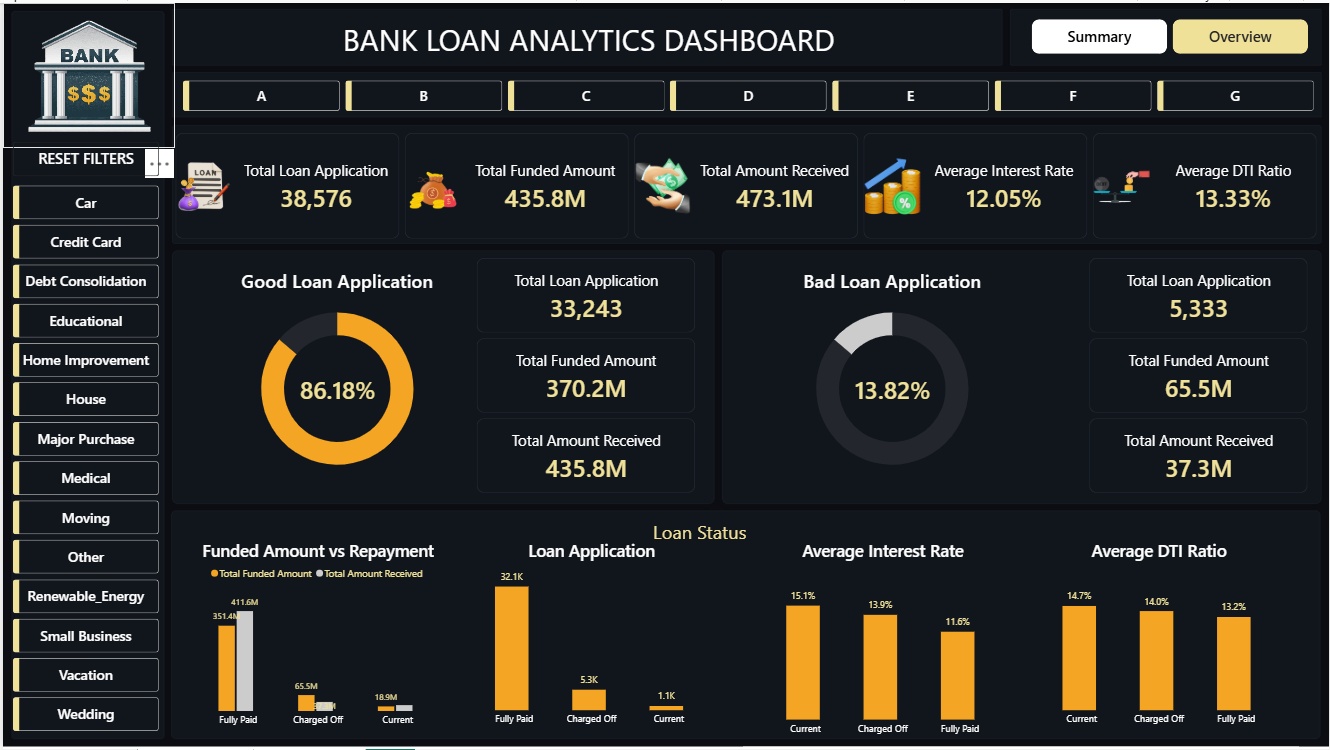

The page's visual inventory and layout, read from the dashboard file:
{"tool":"powerbi","page":{"name":"Summary","canvas":[1920,1080],"ordinal":0},"visuals":[{"type":"cardVisual","fields":{"Data":["financial_loan.Total Loan Application","financial_loan.Total Funded Amount","financial_loan.Total Amount Received","financial_loan.Average Interest Rate","financial_loan.Average DTI Rate"]},"box":[250,187.8,1653.3,153.3],"z":0},{"type":"donutChart","title":"Good Loan Application","fields":{"Category":["financial_loan.Good_vs_Bad_Loan"],"Y":["financial_loan.Total Loan Application"]},"box":[272.9,368.6,421.4,342.9],"z":1000},{"type":"donutChart","title":"Bad Loan Application","fields":{"Category":["financial_loan.Good_vs_Bad_Loan"],"Y":["financial_loan.Total Loan Application"]},"box":[1077.1,368.6,421.4,342.9],"z":2000},{"type":"cardVisual","fields":{"Data":["financial_loan.Good Loan %"]},"box":[394.3,514.3,180,88.6],"z":3000},{"type":"cardVisual","fields":{"Data":["financial_loan.Bad Loan %"]},"box":[1197.1,514.3,180,88.6],"z":4000},{"type":"cardVisual","fields":{"Data":["financial_loan.Total Loan Application","financial_loan.Total Funded Amount","financial_loan.Total Amount Received"],"Rows":["financial_loan.Good_vs_Bad_Loan"]},"box":[651.4,368.6,350,342.9],"z":5000},{"type":"cardVisual","fields":{"Data":["financial_loan.Total Loan Application","financial_loan.Total Funded Amount","financial_loan.Total Amount Received"],"Rows":["financial_loan.Good_vs_Bad_Loan"]},"box":[1538.6,368.6,350,342.9],"z":6000},{"type":"clusteredColumnChart","title":"Funded Amount vs Repayment","fields":{"Category":["financial_loan.LOAN_STATUS"],"Y":["financial_loan.Total Funded Amount","financial_loan.Total Amount Received"]},"box":[250,761.4,412.9,305.7],"z":7000},{"type":"clusteredColumnChart","title":"Loan Application","fields":{"Category":["financial_loan.LOAN_STATUS"],"Y":["financial_loan.Total Loan Application"]},"box":[651.2,761.2,401.2,305],"z":8000},{"type":"textbox","box":[941.2,747.5,222.5,112.5],"z":9000},{"type":"clusteredColumnChart","title":"Average Interest Rate","fields":{"Category":["financial_loan.LOAN_STATUS"],"Y":["financial_loan.Average Interest Rate"]},"box":[1072.9,761.4,401.4,318.6],"z":10000},{"type":"clusteredColumnChart","title":"Average DTI Ratio","fields":{"Category":["financial_loan.LOAN_STATUS"],"Y":["financial_loan.Average DTI Ratio"]},"box":[1473.8,761.2,401.2,305],"z":11000},{"type":"image","box":[0,0,250,210],"z":12000},{"type":"advancedSlicerVisual","fields":{"Values":["financial_loan.PURPOSE"]},"box":[14.3,264.3,211.4,802.9],"z":13000},{"type":"advancedSlicerVisual","fields":{"Values":["financial_loan.GRADE"]},"box":[260,113,1643,44],"z":14000},{"type":"actionButton","box":[14.3,200,211.4,50],"z":15000},{"type":"textbox","box":[250,24.3,1197.1,68.6],"z":16000},{"type":"pageNavigator","box":[1488.6,24.3,400,50],"z":17000}]}

Visuals, with their boxes in screenshot pixels (x1, y1, x2, y2), scaled from the page's 1920x1080 canvas onto the 1330x750 screenshot:
cardVisual - financial_loan.Total Loan Application x financial_loan.Total Funded Amount: <box>173,130,1318,237</box>
"Good Loan Application" donutChart: <box>189,256,481,494</box>
"Bad Loan Application" donutChart: <box>746,256,1038,494</box>
cardVisual - financial_loan.Good Loan %: <box>273,357,398,419</box>
cardVisual - financial_loan.Bad Loan %: <box>829,357,954,419</box>
cardVisual - financial_loan.Total Loan Application x financial_loan.Total Funded Amount: <box>451,256,694,494</box>
cardVisual - financial_loan.Total Loan Application x financial_loan.Total Funded Amount: <box>1066,256,1308,494</box>
"Funded Amount vs Repayment" clusteredColumnChart: <box>173,529,459,741</box>
"Loan Application" clusteredColumnChart: <box>451,529,729,740</box>
textbox: <box>652,519,806,597</box>
"Average Interest Rate" clusteredColumnChart: <box>743,529,1021,749</box>
"Average DTI Ratio" clusteredColumnChart: <box>1021,529,1299,740</box>
image: <box>0,0,173,146</box>
advancedSlicerVisual - financial_loan.PURPOSE: <box>10,184,156,741</box>
advancedSlicerVisual - financial_loan.GRADE: <box>180,78,1318,109</box>
actionButton: <box>10,139,156,174</box>
textbox: <box>173,17,1002,65</box>
pageNavigator: <box>1031,17,1308,52</box>
